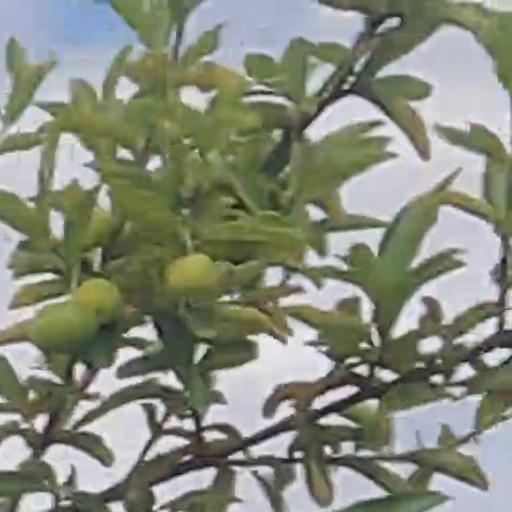acerola_verde: (32, 301, 91, 345), (166, 253, 218, 297), (79, 278, 119, 319)
